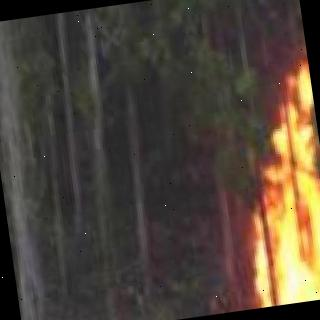fire: (150, 36, 320, 317)
